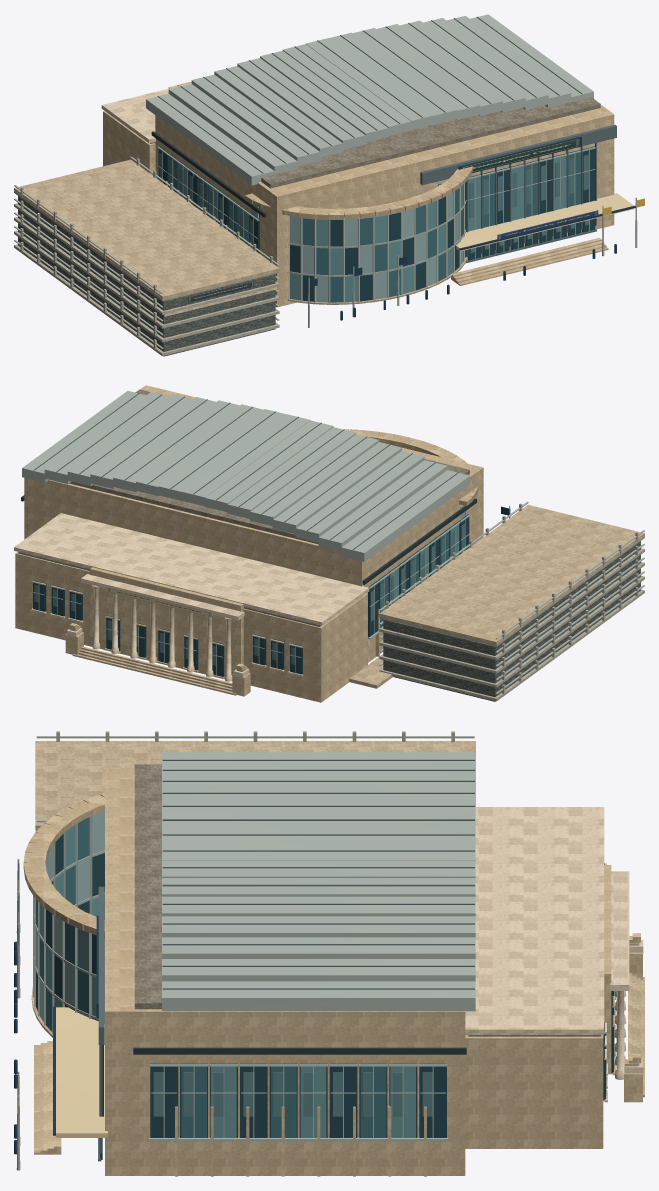
The model's file is enterprise.glb.
The picture shows the model from 3 angles, top to bottom: view 1: azimuth 30°, elevation 25°; view 2: azimuth 150°, elevation 25°; view 3: azimuth 270°, elevation 25°; orthographic projection. The views are drawn at different scales.
Parts seen in each view (by area): view 1: Enterprise Center arena and southeast entry · Light metal, Enterprise Center arena and southeast entry · Limestone, Enterprise Center arena and southeast entry · Terrace, Enterprise Center arena and southeast entry · Charcoal concr, Enterprise Center arena and southeast entry · Glass light, Enterprise Center arena and southeast entry · White concrete, Enterprise Center arena and southeast entry · Glass dark, Enterprise Center arena and southeast entry · Roof, Enterprise Center arena and southeast entry · Steel, Enterprise Center arena and southeast entry · Glass, Enterprise Center arena and southeast entry · Glass bright, Enterprise Center arena and southeast entry · Cream (+5 smaller); view 2: Enterprise Center arena and southeast entry · Light metal, Enterprise Center arena and southeast entry · Limestone, Enterprise Center arena and southeast entry · Ivory, Enterprise Center arena and southeast entry · Terrace, Enterprise Center arena and southeast entry · Charcoal concr, Enterprise Center arena and southeast entry · White concrete, Enterprise Center arena and southeast entry · Glass dark, Enterprise Center arena and southeast entry · Steel, Enterprise Center arena and southeast entry · Glass light, Enterprise Center arena and southeast entry · Roof, Enterprise Center arena and southeast entry · Coal, Enterprise Center arena and southeast entry · Glass (+1 smaller); view 3: Enterprise Center arena and southeast entry · Light metal, Enterprise Center arena and southeast entry · Limestone, Enterprise Center arena and southeast entry · Ivory, Enterprise Center arena and southeast entry · Terrace, Enterprise Center arena and southeast entry · Steel, Enterprise Center arena and southeast entry · Glass light, Enterprise Center arena and southeast entry · Glass dark, Enterprise Center arena and southeast entry · Roof, Enterprise Center arena and southeast entry · Glass, Enterprise Center arena and southeast entry · Cream, Enterprise Center arena and southeast entry · Coal, Enterprise Center arena and southeast entry · Glass bright (+1 smaller).
Part boxes in pixels (x1,y1,x2,y2): Enterprise Center arena and southeast entry · Light metal: (14, 14, 637, 348); Enterprise Center arena and southeast entry · Limestone: (103, 81, 614, 307); Enterprise Center arena and southeast entry · Terrace: (14, 159, 467, 304); Enterprise Center arena and southeast entry · Charcoal concr: (18, 196, 275, 356); Enterprise Center arena and southeast entry · Glass light: (159, 153, 589, 302); Enterprise Center arena and southeast entry · White concrete: (14, 158, 279, 355); Enterprise Center arena and southeast entry · Glass dark: (158, 146, 595, 301); Enterprise Center arena and southeast entry · Roof: (150, 97, 600, 188); Enterprise Center arena and southeast entry · Steel: (157, 16, 616, 263); Enterprise Center arena and southeast entry · Glass: (168, 152, 580, 302); Enterprise Center arena and southeast entry · Glass bright: (251, 192, 463, 302); Enterprise Center arena and southeast entry · Cream: (456, 193, 634, 251); Enterprise Center arena and southeast entry · Light metal: (22, 391, 644, 694); Enterprise Center arena and southeast entry · Limestone: (15, 385, 483, 702); Enterprise Center arena and southeast entry · Ivory: (14, 513, 369, 681); Enterprise Center arena and southeast entry · Terrace: (72, 504, 644, 695); Enterprise Center arena and southeast entry · Charcoal concr: (383, 541, 640, 701); Enterprise Center arena and southeast entry · White concrete: (379, 503, 644, 701); Enterprise Center arena and southeast entry · Glass dark: (33, 448, 469, 676); Enterprise Center arena and southeast entry · Steel: (33, 393, 458, 549); Enterprise Center arena and southeast entry · Glass light: (34, 523, 464, 665); Enterprise Center arena and southeast entry · Roof: (18, 389, 469, 626); Enterprise Center arena and southeast entry · Coal: (21, 495, 476, 584); Enterprise Center arena and southeast entry · Glass: (379, 531, 449, 627); Enterprise Center arena and southeast entry · Light metal: (16, 736, 614, 1170); Enterprise Center arena and southeast entry · Limestone: (23, 767, 642, 1176); Enterprise Center arena and southeast entry · Ivory: (465, 807, 643, 1102); Enterprise Center arena and southeast entry · Terrace: (31, 741, 644, 1097); Enterprise Center arena and southeast entry · Steel: (98, 759, 474, 1161); Enterprise Center arena and southeast entry · Glass light: (39, 825, 614, 1137); Enterprise Center arena and southeast entry · Glass dark: (36, 834, 613, 1159); Enterprise Center arena and southeast entry · Roof: (134, 764, 600, 1036); Enterprise Center arena and southeast entry · Glass: (36, 817, 386, 1137); Enterprise Center arena and southeast entry · Cream: (55, 1007, 107, 1137); Enterprise Center arena and southeast entry · Coal: (133, 1047, 466, 1054); Enterprise Center arena and southeast entry · Glass bright: (36, 811, 104, 1021).
Bounding box in the file's own units: 33.28 × 8.98 × 25.55.
20 materials, 10 textured.
